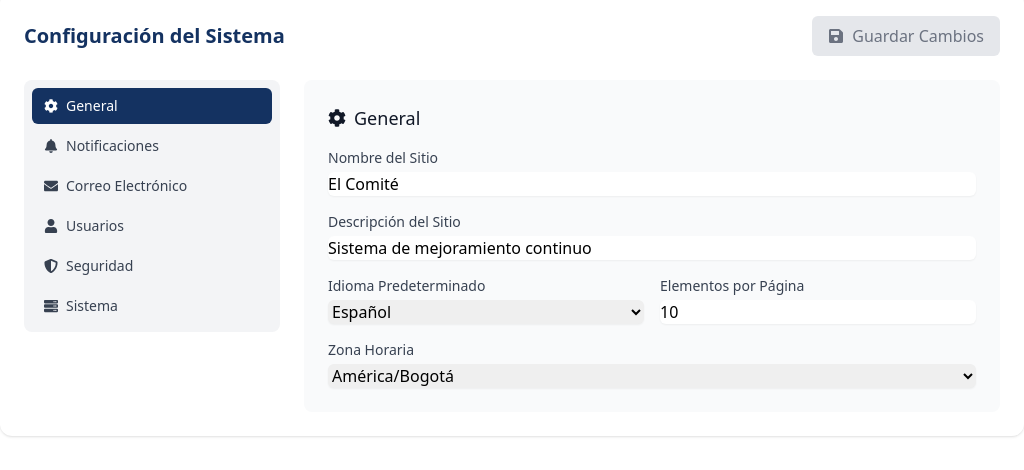
ConfigurationManagement › should render Notifications form when tab is clicked
Click the button "Notificaciones".
click(152, 146)  # box [32, 128, 272, 164]
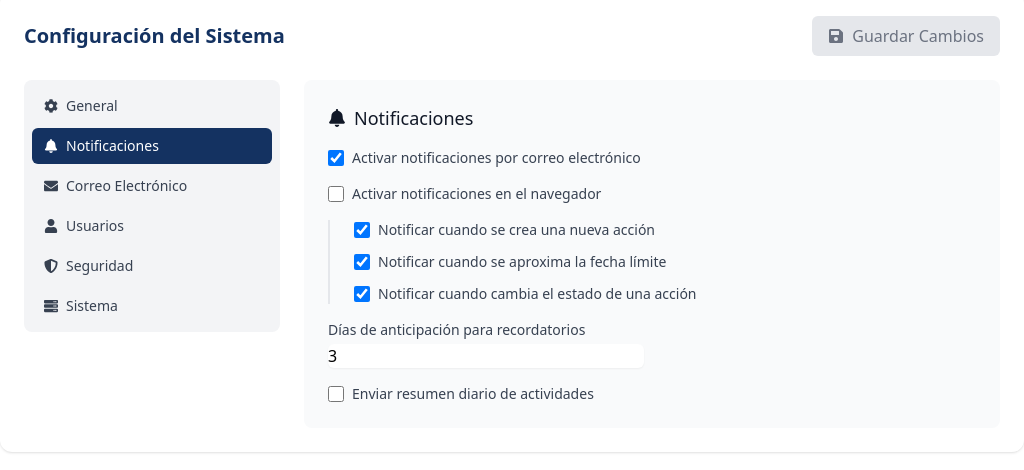
Expected: the checkbox labelled "Activar notificaciones por correo electrónico" is shown
Expected: the checkbox labelled "Activar notificaciones en el navegador" is shown, [328, 186, 344, 202]
Click the checkbox labelled "Activar notificaciones por correo electrónico".
click(336, 158)  # box [328, 150, 344, 166]
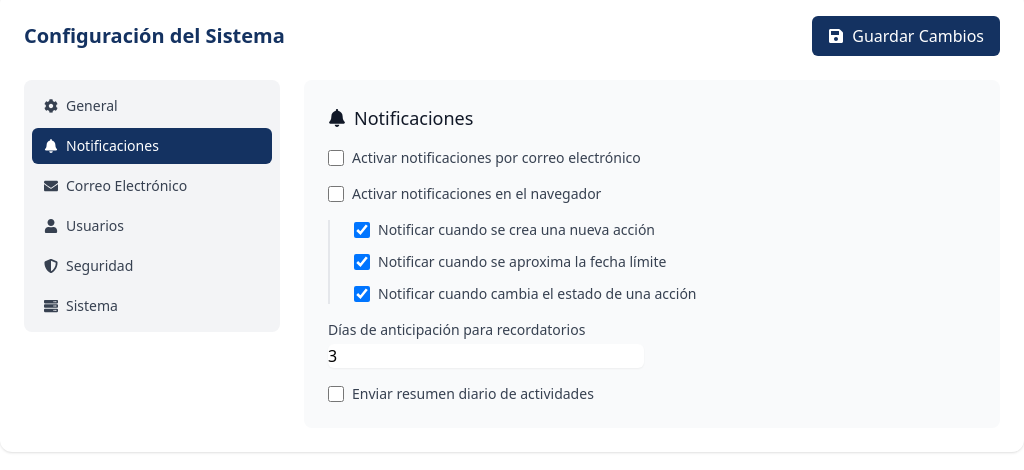
Expected: the button "Guardar Cambios" is enabled, [812, 16, 1000, 56]
